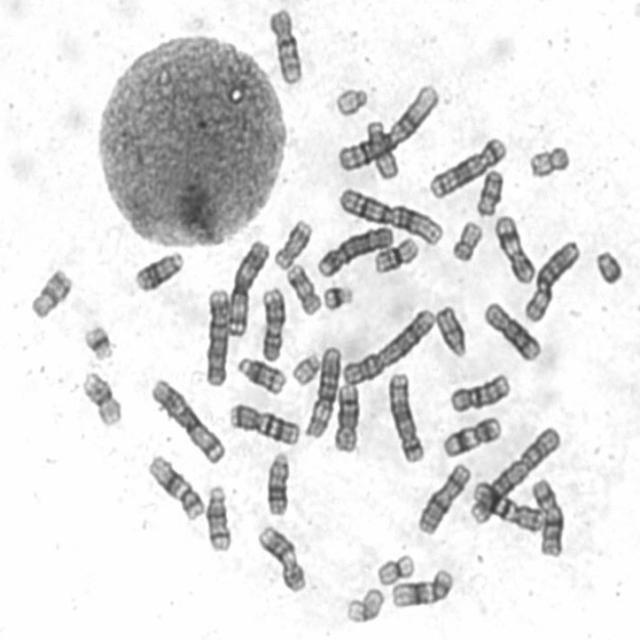A1: (333, 79, 442, 173), (334, 182, 444, 247)
A2: (467, 422, 562, 526), (338, 303, 437, 387)
A3: (145, 373, 227, 466), (224, 234, 272, 338)
B4: (312, 220, 395, 279), (200, 284, 232, 388)
B5: (425, 132, 509, 200), (384, 367, 426, 464)
C10: (263, 2, 305, 87), (446, 368, 512, 414)
C11: (490, 211, 537, 286), (438, 412, 503, 458)
C12: (144, 449, 206, 522), (387, 564, 455, 610)
C6: (520, 234, 582, 324), (300, 340, 343, 439)
C7: (468, 475, 547, 535), (224, 398, 302, 448)
C8: (480, 297, 542, 363), (329, 379, 362, 454)
C9: (252, 521, 308, 594), (257, 282, 286, 363)
D13: (130, 246, 186, 294), (262, 448, 292, 517)
D14: (232, 352, 288, 396), (201, 480, 233, 553)
D15: (362, 115, 400, 180), (432, 301, 469, 359)
E16: (77, 367, 123, 428), (371, 232, 421, 276)
E17: (269, 214, 314, 271), (282, 260, 322, 318)
E18: (26, 263, 74, 321), (472, 165, 506, 217)
F19: (341, 584, 386, 624), (372, 550, 416, 587)
F20: (524, 140, 573, 179), (447, 217, 484, 263)
G21: (79, 318, 116, 362), (319, 281, 355, 312)
G22: (287, 348, 322, 387), (332, 82, 369, 118)
X: (412, 458, 473, 536), (528, 474, 566, 558)
Y: (591, 244, 625, 286)
